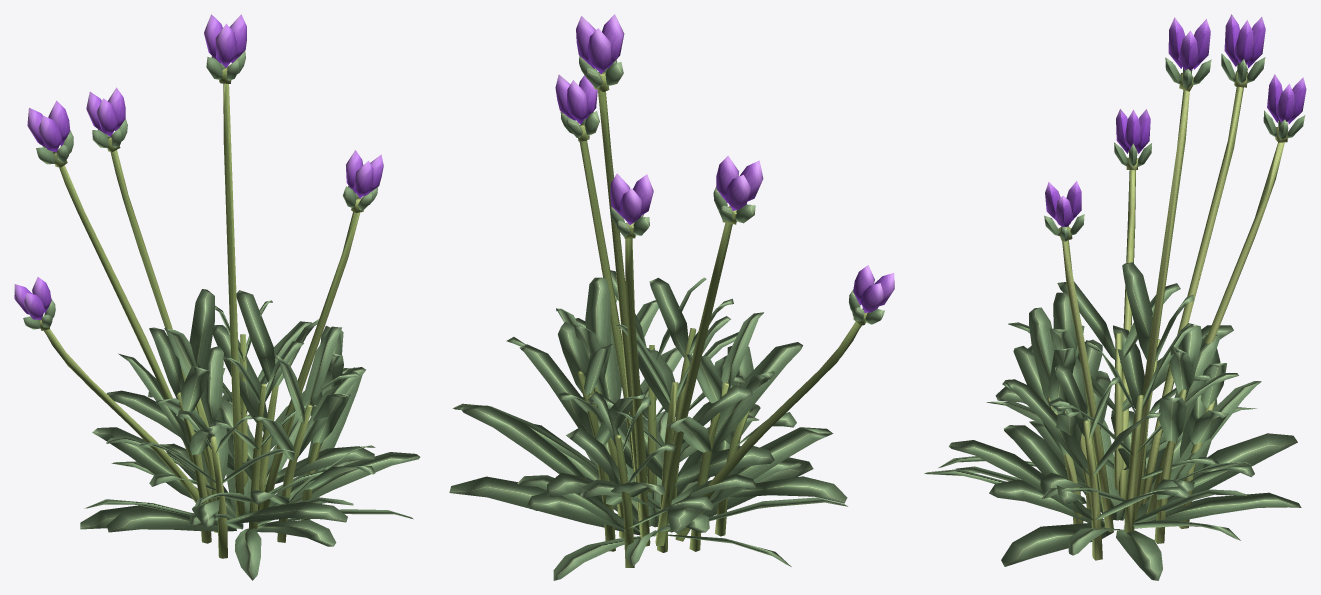
Rendered from NP_Lavender_BudForming_LOD1.fbx.
The picture shows the model from 3 angles, left to right: view 1: azimuth 30°, elevation 25°; view 2: azimuth 150°, elevation 25°; view 3: azimuth 270°, elevation 25°; orthographic projection. The views are drawn at different scales.
Parts seen in each view (by area): view 1: NP_Lavender_BudForming; view 2: NP_Lavender_BudForming; view 3: NP_Lavender_BudForming.
Boxes of the visible parts, left/top/right/bottom form: NP_Lavender_BudForming: left=14, top=14, right=420, bottom=580; NP_Lavender_BudForming: left=449, top=14, right=894, bottom=580; NP_Lavender_BudForming: left=924, top=14, right=1306, bottom=580.
Size of the model in its own units: 59.12 by 74.06 by 49.49.
